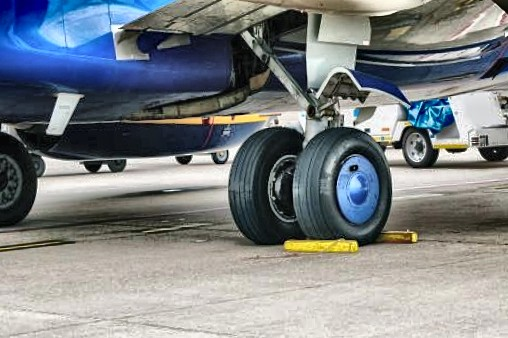chock: (279, 236, 359, 256), (350, 227, 420, 246)
wheel: (291, 122, 397, 246), (225, 125, 315, 245), (0, 130, 41, 227), (401, 126, 440, 169), (480, 144, 508, 160), (31, 153, 46, 178), (424, 147, 441, 165), (108, 159, 127, 172), (212, 150, 230, 163), (84, 160, 103, 172), (176, 154, 193, 164), (447, 146, 468, 153), (391, 139, 403, 148)
